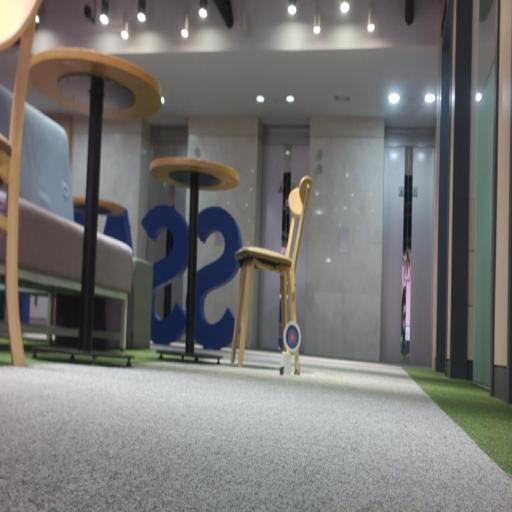target: (283, 321, 301, 355)
